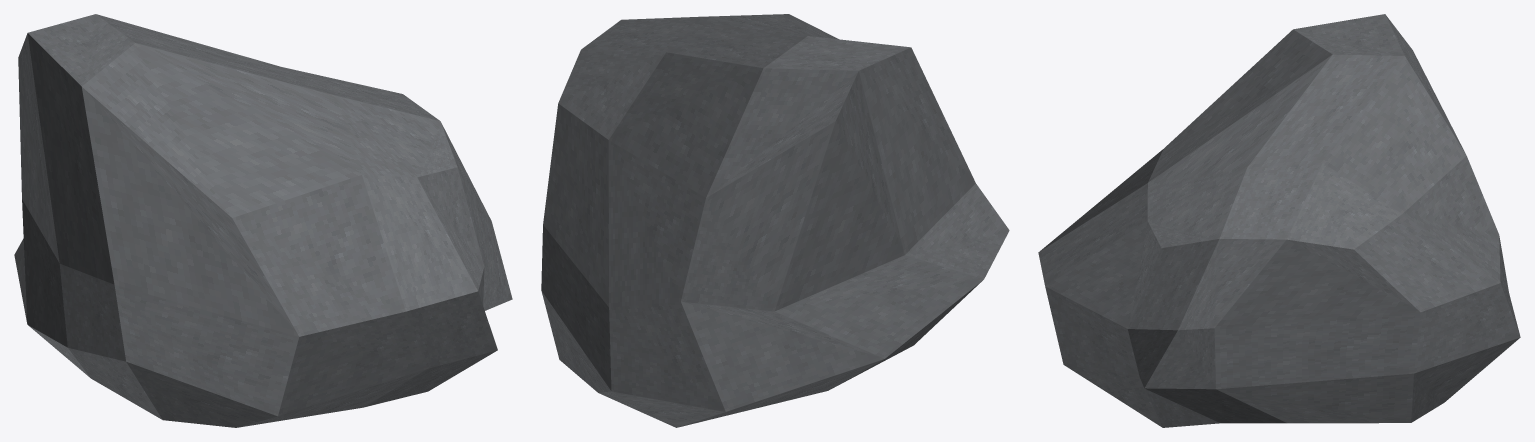
File: Rock2.glb
3 renders of one model, left to right at view 1: azimuth 30°, elevation 25°; view 2: azimuth 150°, elevation 25°; view 3: azimuth 270°, elevation 25°, orthographic. The views are drawn at different scales.
Visible parts, largest first — view 1: Rock_11; view 2: Rock_11; view 3: Rock_11.
Boxes of the visible parts, box(x1,y1,x2,y2) form: Rock_11: box(14, 14, 512, 427); Rock_11: box(541, 14, 1009, 427); Rock_11: box(1038, 14, 1520, 427).
Size of the model in its own units: 4.01 by 3.42 by 4.82.
1 material, 1 textured.
